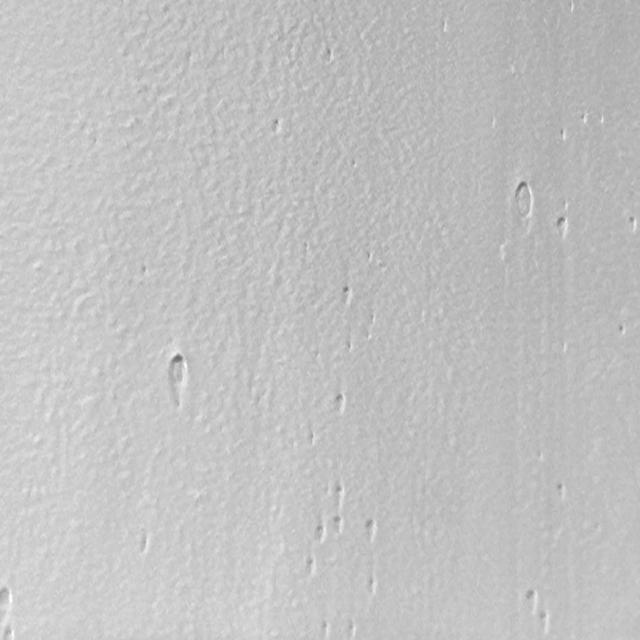pin holes: (163, 347, 193, 412), (511, 180, 536, 219), (0, 586, 14, 626), (136, 530, 154, 558), (535, 610, 554, 636), (332, 391, 350, 418), (523, 586, 541, 612), (551, 216, 570, 240), (364, 515, 379, 543), (331, 482, 347, 507), (302, 557, 320, 579), (340, 282, 356, 306), (552, 480, 569, 501), (625, 214, 640, 237), (312, 520, 326, 544), (269, 118, 286, 137), (366, 574, 379, 598), (318, 619, 332, 639), (332, 514, 344, 534), (616, 323, 628, 338)
